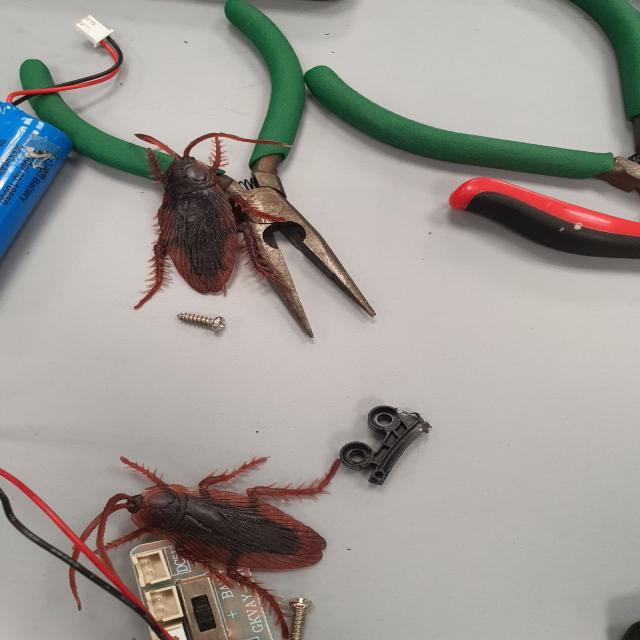Cockroach: (49, 439, 351, 629), (111, 120, 291, 326)
